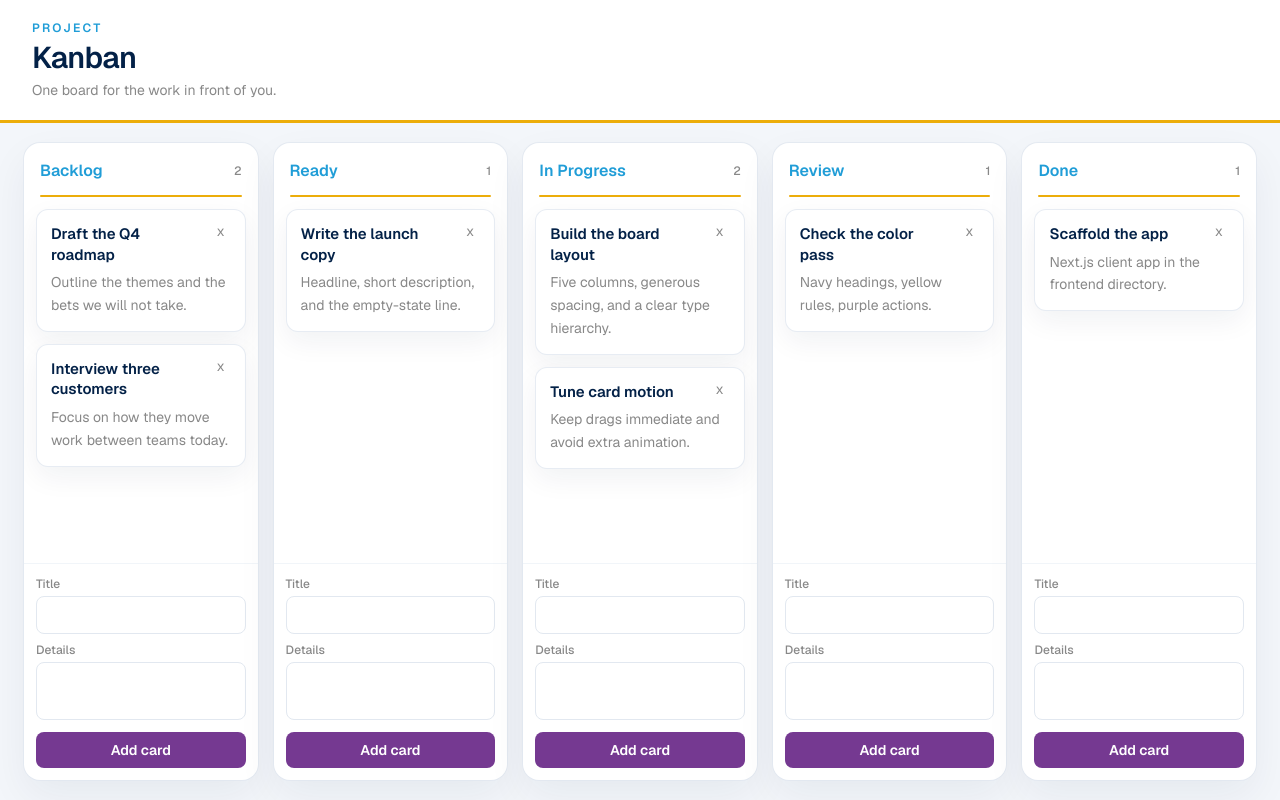
Board › renames a column from its heading
Click the button "Backlog": point(71, 171) [40, 159, 103, 183]
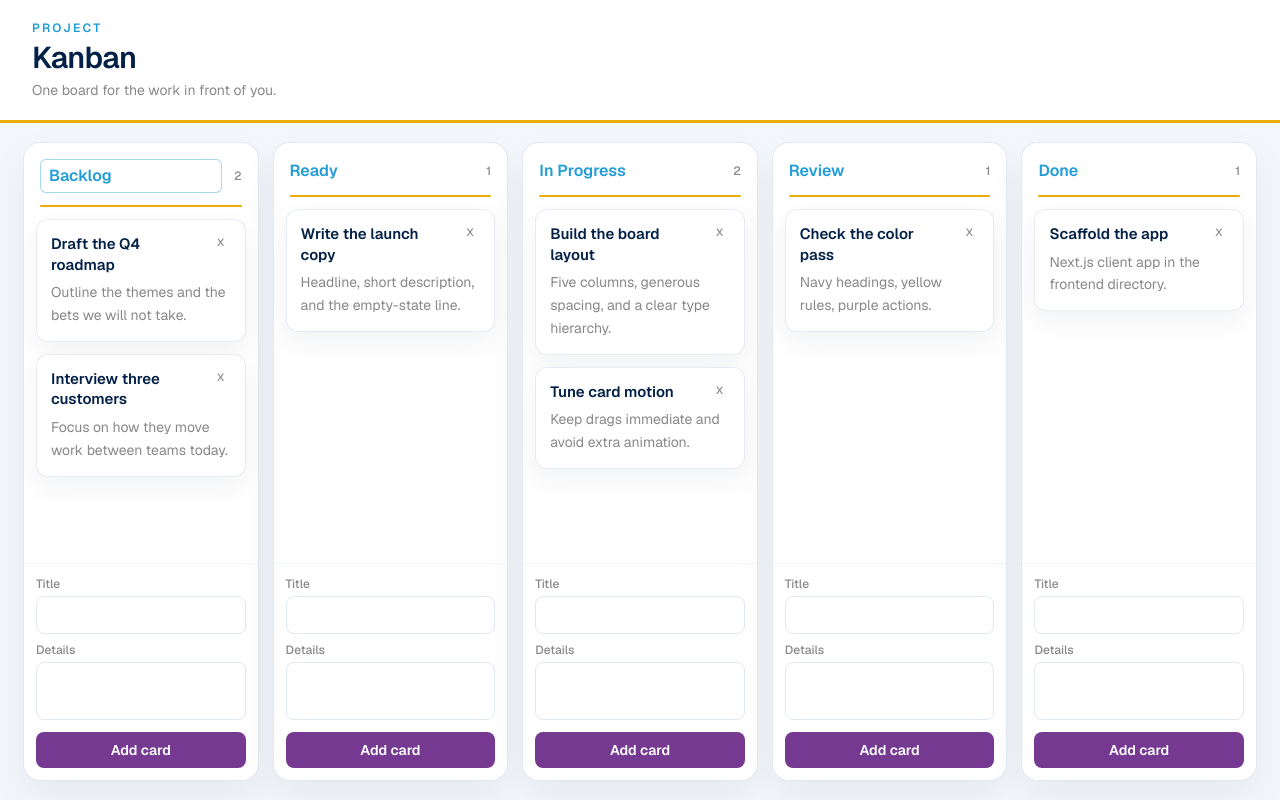
Replace the text in the field named "Column name" with "Ideas": point(131, 176) [40, 159, 222, 193]
Then press Enter
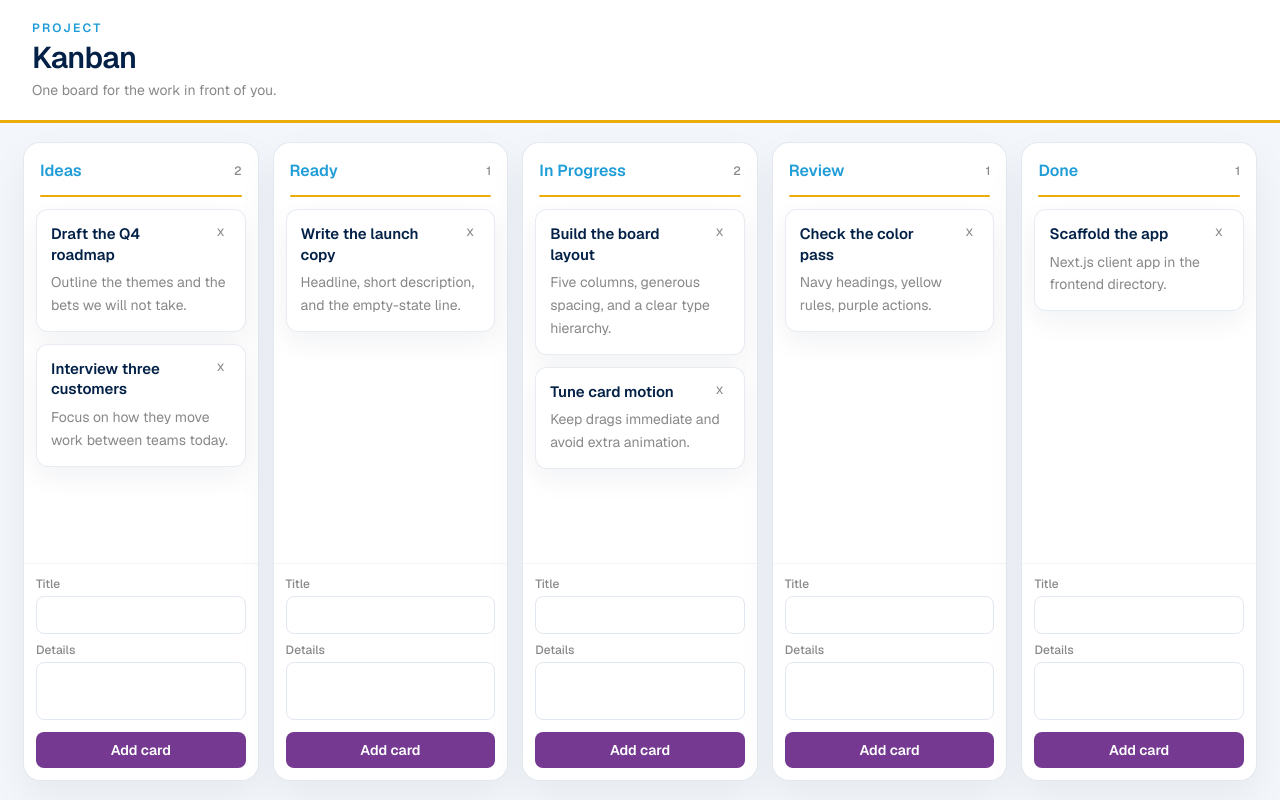
Now the element "Ideas" is shown, box [24, 143, 258, 780]
